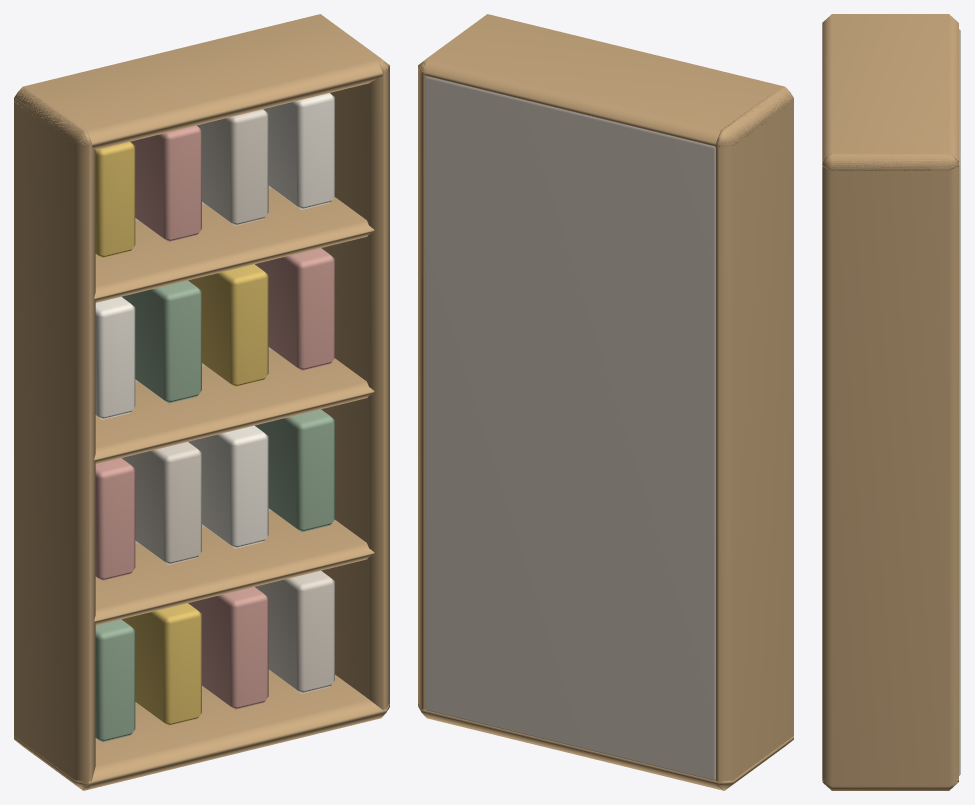
Rendered from shelf.glb.
The picture shows the model from 3 angles, left to right: view 1: azimuth 30°, elevation 25°; view 2: azimuth 150°, elevation 25°; view 3: azimuth 270°, elevation 25°; orthographic projection. The views are drawn at different scales.
Parts seen in each view (by area): view 1: side_-1, side_1, top, bottom, divider_1, divider_2, divider_0, book_1_2, book_0_2, book_2_2, book_0_1, book_1_1 (+11 smaller); view 2: back, side_-1, top, side_1, bottom; view 3: side_1, top, back.
Boxes of the visible parts, <box> form: side_-1: <box>14,86,95,790</box>; side_1: <box>321,59,389,710</box>; top: <box>14,14,389,149</box>; bottom: <box>14,670,389,790</box>; divider_1: <box>94,349,374,463</box>; divider_2: <box>94,188,374,302</box>; divider_0: <box>94,511,374,625</box>; book_1_2: <box>188,425,268,548</box>; book_0_2: <box>188,587,268,709</box>; book_2_2: <box>188,264,268,387</box>; book_0_1: <box>122,603,201,726</box>; book_1_1: <box>122,442,201,564</box>; back: <box>425,76,715,780</box>; side_-1: <box>715,86,793,790</box>; top: <box>418,14,793,147</box>; side_1: <box>418,59,429,717</box>; bottom: <box>418,704,793,790</box>; side_1: <box>822,153,958,790</box>; top: <box>822,14,958,170</box>; back: <box>959,29,960,775</box>.
Size of the model in its own units: 0.9 by 1.8 by 0.355.
